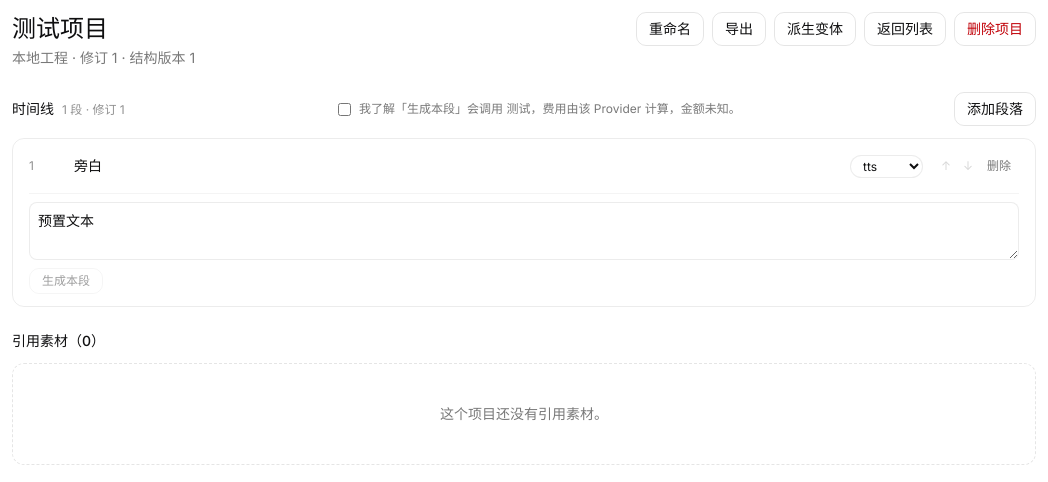
Scenario: Studio editor beat generation › gates: cost acknowledgement required before 生成本段
The image size is (1048, 482).
expect the button "生成本段" is disabled: met, box x1=29 y1=268 x2=103 y2=294
Click the checkbox. click: (344, 109)
box: x1=338 y1=102 x2=351 y2=116
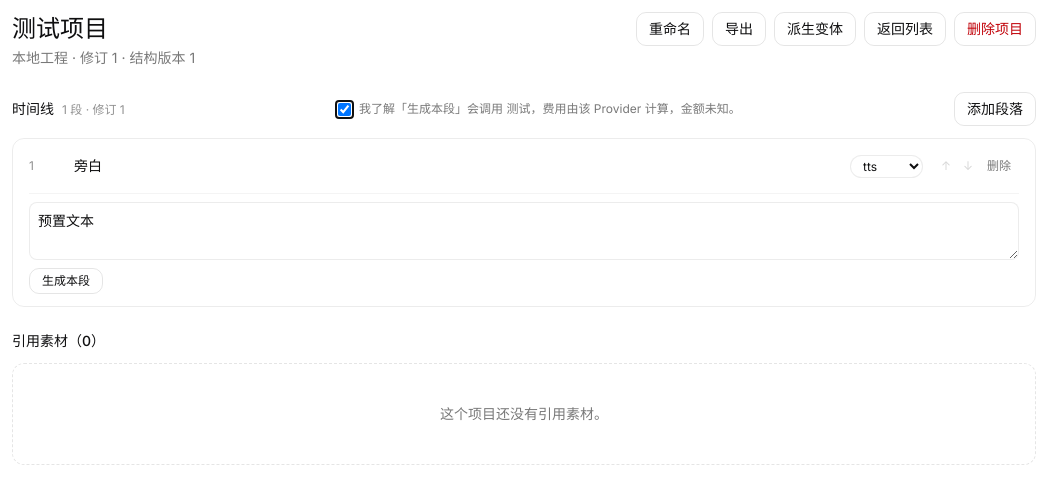
expect the button "生成本段" is enabled: met, box x1=29 y1=268 x2=103 y2=294
